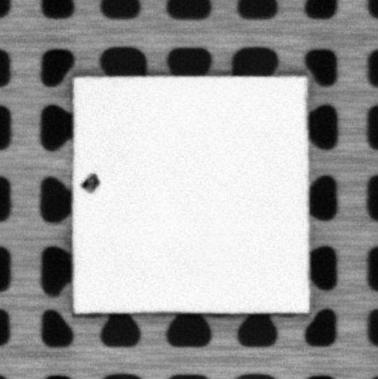DIE_INK: (81, 172, 101, 193)
